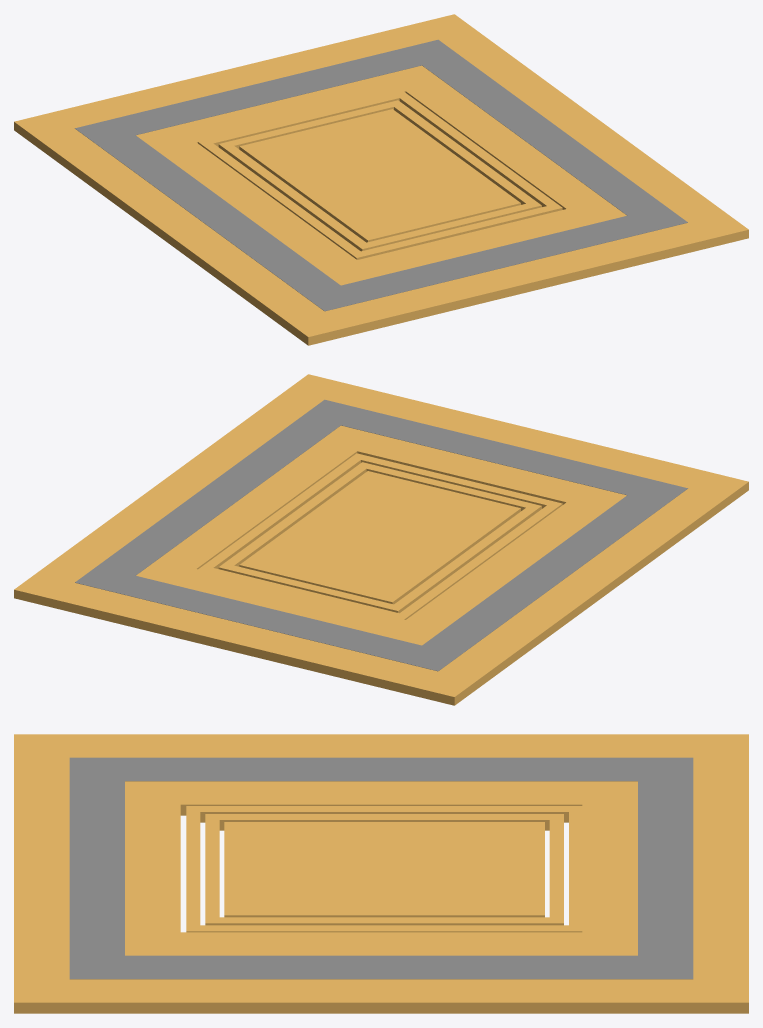
The model's file is OU_AR_Platform_01_D.fbx.
The picture shows the model from 3 angles, top to bottom: view 1: azimuth 30°, elevation 25°; view 2: azimuth 150°, elevation 25°; view 3: azimuth 270°, elevation 25°; orthographic projection. The views are drawn at different scales.
Visible parts, largest first — view 1: OU_AR_Platform_01_D, OU_AR_Platform_01_D.003, OU_AR_Platform_01_D.001, OU_AR_Platform_01_D.002; view 2: OU_AR_Platform_01_D, OU_AR_Platform_01_D.003, OU_AR_Platform_01_D.001, OU_AR_Platform_01_D.002; view 3: OU_AR_Platform_01_D, OU_AR_Platform_01_D.003, OU_AR_Platform_01_D.001, OU_AR_Platform_01_D.002.
Boxes of the visible parts, x1,y1,x2,y2 form: OU_AR_Platform_01_D: (14,14,748,345); OU_AR_Platform_01_D.003: (239,109,520,242); OU_AR_Platform_01_D.001: (198,91,562,259); OU_AR_Platform_01_D.002: (218,100,541,251); OU_AR_Platform_01_D: (14,374,748,705); OU_AR_Platform_01_D.003: (239,471,520,604); OU_AR_Platform_01_D.001: (198,453,562,619); OU_AR_Platform_01_D.002: (218,462,541,613); OU_AR_Platform_01_D: (14,734,748,1013); OU_AR_Platform_01_D.003: (224,822,544,917); OU_AR_Platform_01_D.001: (186,806,582,932); OU_AR_Platform_01_D.002: (205,814,563,925).
Bounding box in the file's own units: 2000 × 38.48 × 2315.
